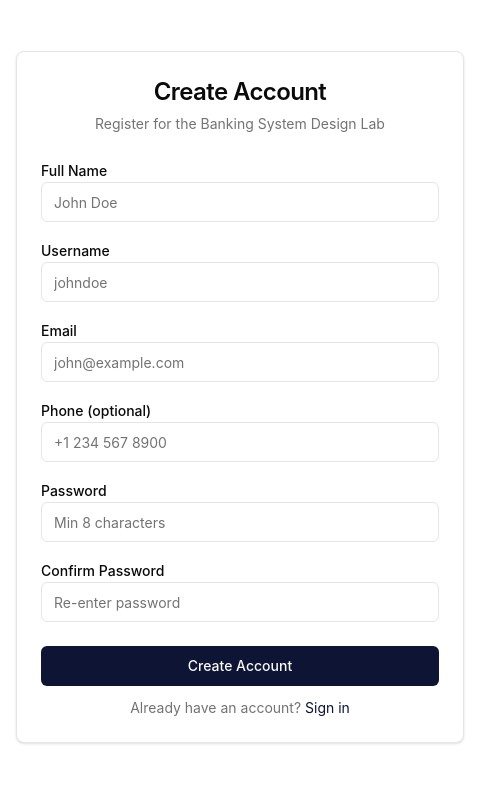
Test: RegisterPage › shows error when passwords do not match
The image size is (481, 796).
In the field labelled "Full Name": [240, 202] box [41,182,439,222], type "Test User"
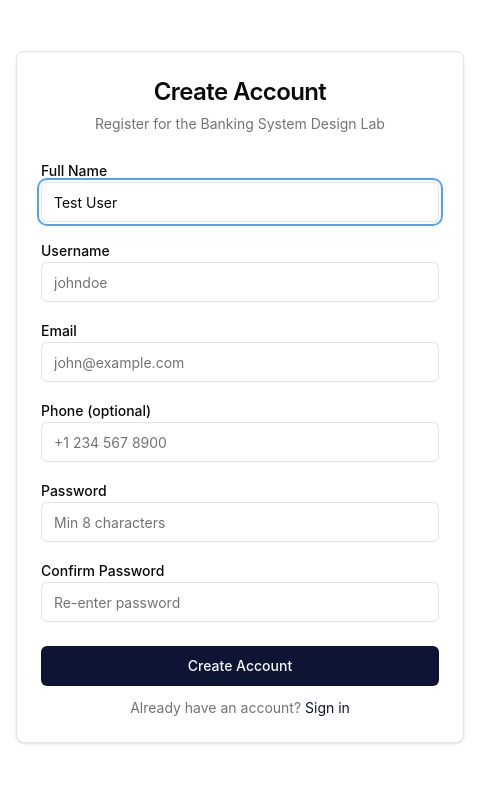
In the field labelled "Username": [240, 282] box [41,262,439,302], type "testuser"
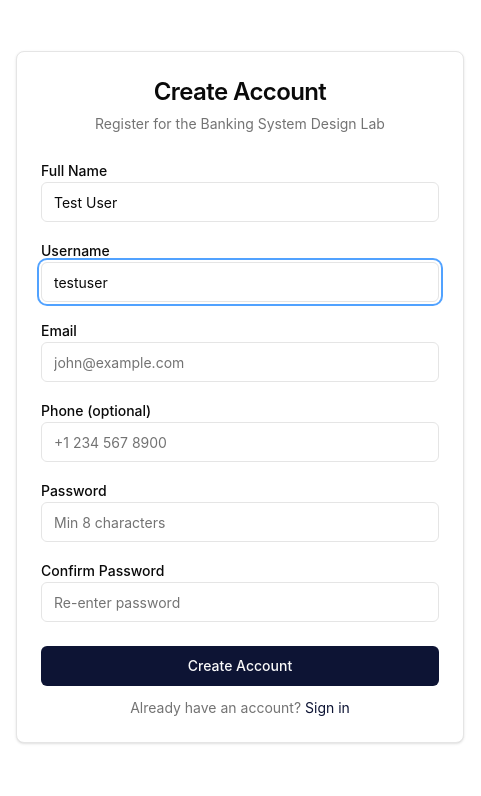
In the field labelled "Email": [240, 362] box [41,342,439,382], type "test@example.com"
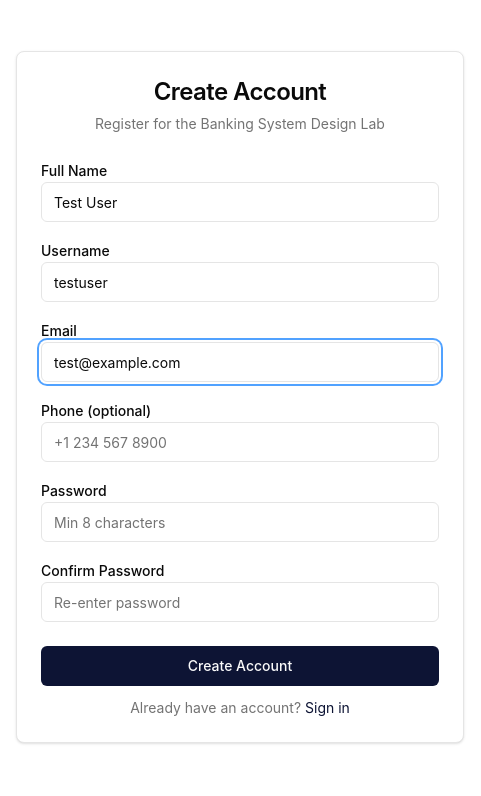
In the password field labelled "Password": [240, 522] box [41,502,439,542], type "password123"
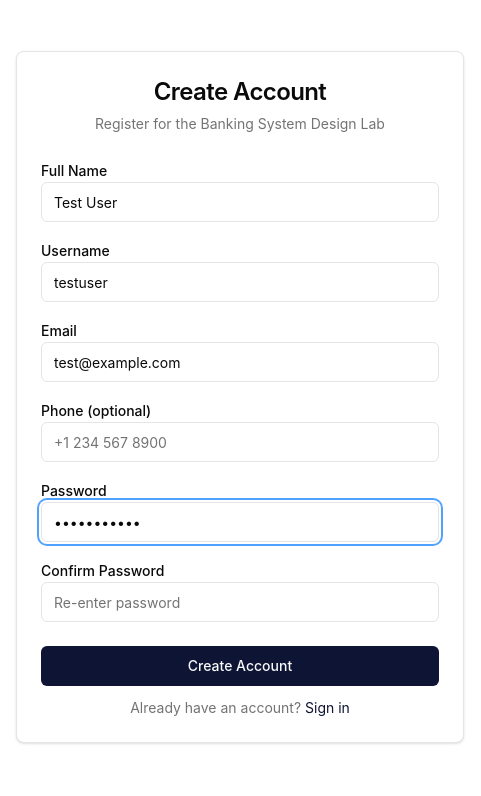
In the password field labelled "Confirm Password": [240, 602] box [41,582,439,622], type "different"
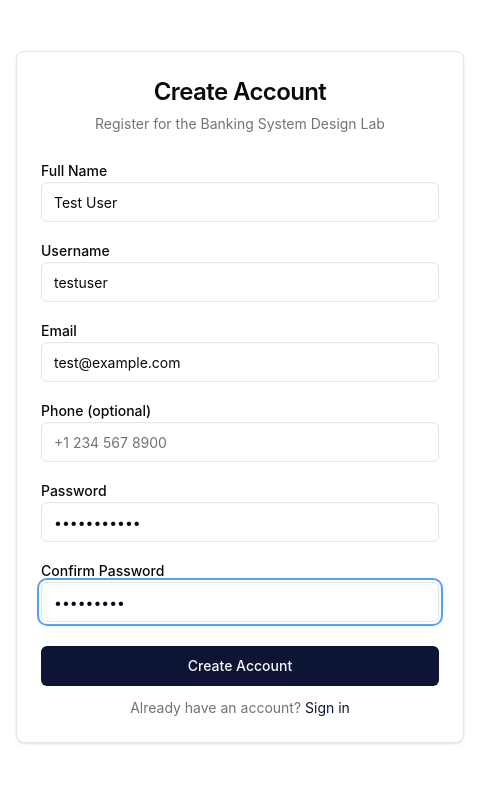
Click the button "Create Account": [240, 666] box [41,646,439,686]
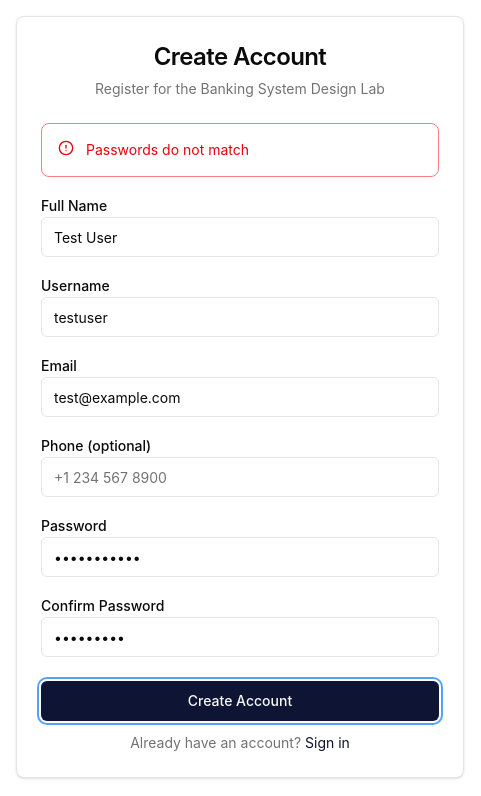
Expected: the text "Passwords do not match" is shown, [86,141,249,158]
